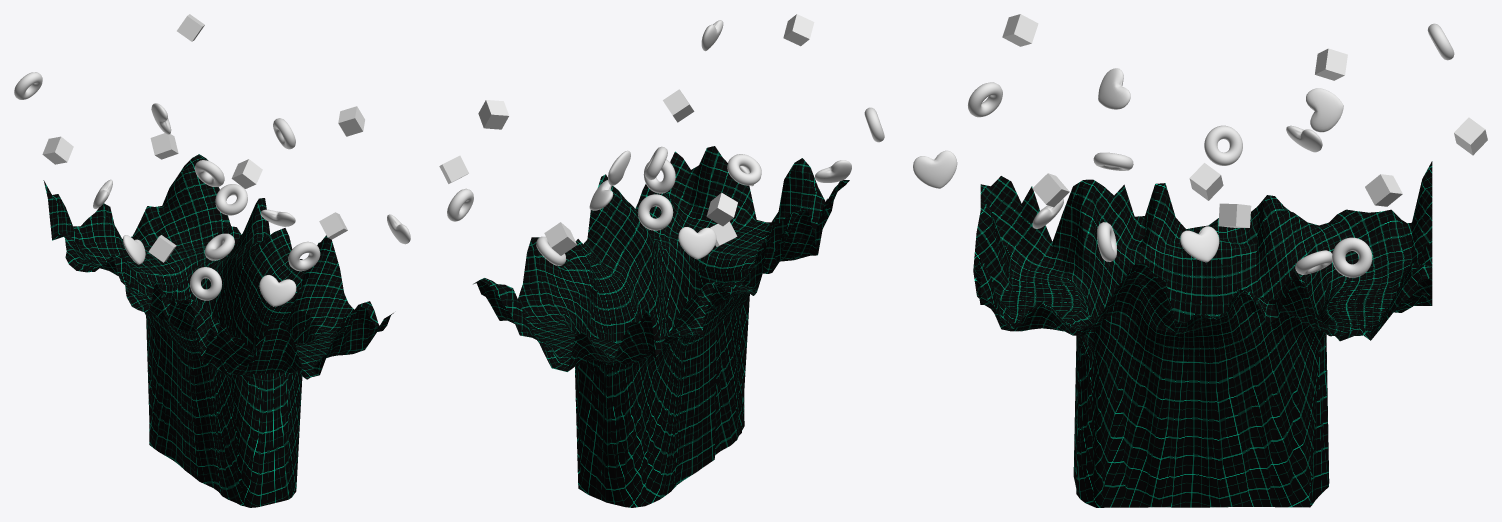
The model's file is Interconnect.glb.
The picture shows the model from 3 angles, left to right: view 1: azimuth 30°, elevation 25°; view 2: azimuth 150°, elevation 25°; view 3: azimuth 270°, elevation 25°; orthographic projection. The views are drawn at different scales.
Visible parts, largest first — view 1: Plane, Sphere.001, Torus.004, Torus, Torus.002, Cube.003, Torus.001, Cube.004, Cube.006, Torus.006, Torus.005, Cube.002 (+5 smaller); view 2: Plane, Sphere, Torus.005, Torus.001, Cube.004, Cube.003, Cube.006, Cube.002, Torus.003, Torus.002, Sphere.003, Cube.001 (+1 smaller); view 3: Plane, Sphere.005, Sphere.004, Torus.003, Torus.006, Sphere.002, Sphere.003, Torus.004, Cube.002, Cube.006, Cube.003, Cube (+5 smaller).
Part boxes in pixels (x1,y1,x2,y2): Plane: (43, 154, 393, 507); Sphere.001: (259, 275, 296, 306); Torus.004: (190, 267, 222, 300); Torus: (215, 184, 247, 215); Torus.002: (288, 241, 320, 271); Cube.003: (42, 136, 73, 164); Torus.001: (204, 233, 234, 260); Cube.004: (338, 106, 364, 136); Cube.006: (231, 159, 262, 188); Torus.006: (194, 160, 224, 186); Torus.005: (14, 72, 42, 99); Cube.002: (150, 133, 178, 159); Plane: (473, 146, 849, 507); Sphere: (678, 227, 716, 259); Torus.005: (638, 194, 673, 230); Torus.001: (727, 154, 761, 185); Cube.004: (478, 100, 509, 129); Cube.003: (706, 192, 737, 226); Cube.006: (783, 14, 814, 46); Cube.002: (544, 222, 576, 255); Torus.003: (447, 188, 473, 221); Torus.002: (643, 159, 675, 193); Sphere.003: (815, 160, 851, 182); Cube.001: (663, 89, 694, 122); Plane: (973, 161, 1432, 507); Sphere.005: (1306, 88, 1343, 132); Sphere.004: (913, 150, 957, 188); Torus.003: (1332, 237, 1372, 277); Torus.006: (1204, 125, 1242, 165); Sphere.002: (1180, 226, 1219, 262); Sphere.003: (1098, 68, 1130, 109); Torus.004: (968, 82, 1002, 117); Cube.002: (1365, 174, 1402, 206); Cube.006: (1002, 14, 1038, 46); Cube.003: (1315, 48, 1347, 80); Cube: (1189, 163, 1223, 200).
Bounding box in the file's own units: 72.08 × 88.09 × 102.
Materials: 2 (1 with a texture image).
